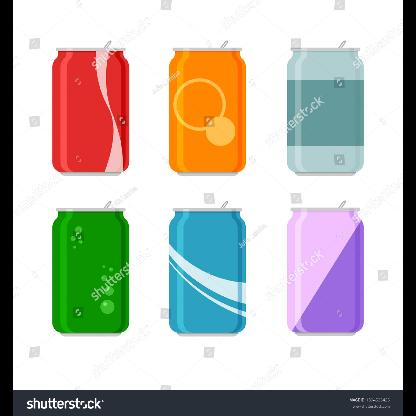Lid_Open: (332, 188, 364, 230), (208, 199, 245, 222), (213, 34, 243, 58), (332, 34, 354, 60), (90, 192, 112, 218), (95, 36, 117, 56)
Tin_Can: (35, 200, 143, 354), (150, 204, 258, 340), (280, 200, 376, 342), (163, 33, 253, 184), (48, 35, 134, 184), (284, 36, 366, 184)
